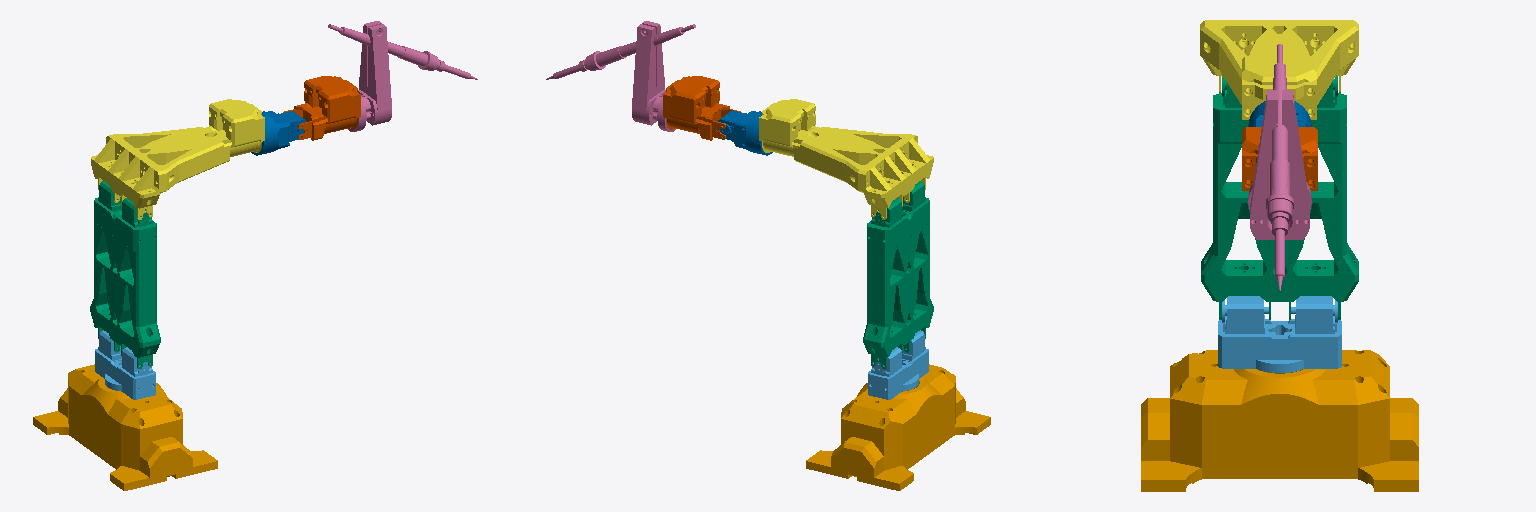
URDF robot description (mini_6dof_arm):
<?xml version="1.0"?>

<robot name="mini_6dof_arm">

  <!-- ###############################
       LINKS
       ############################### -->

  <link name="base">
    <visual>
      <origin xyz="0 0 0" rpy="0 0 0"/>
      <geometry>
        <mesh filename="stl-files/base.stl"/>
      </geometry>
    </visual>
    <collision>
      <origin xyz="0 0 0" rpy="0 0 0"/>
      <geometry>
        <mesh filename="stl-files/base.stl"/>
      </geometry>
    </collision>
    <inertial>
      <origin xyz="0 0 0" rpy="0 0 0"/>
      <mass value="0.191955"/>
      <inertia
        ixx="1.841e-4" ixy="3.5e-11" ixz="8.1195e-5"
        iyy="2.948e-4" iyz="-7.4e-11"
        izz="2.374e-4"/>
    </inertial>
  </link>

  <link name="L1">
    <visual>
      <origin xyz="0 0 0" rpy="0 0 0"/>
      <geometry>
        <mesh filename="stl-files/L1.stl"/>
      </geometry>
    </visual>
    <collision>
      <origin xyz="0 0 0" rpy="0 0 0"/>
      <geometry>
        <mesh filename="stl-files/L1.stl"/>
      </geometry>
    </collision>
    <inertial>
      <origin xyz="0 0 0" rpy="0 0 0"/>
      <mass value="0.103485"/>
      <inertia
        ixx="1.136e-4" ixy="-1.8e-11" ixz="1.6e-11"
        iyy="1.087e-4" iyz="1.3797e-6"
        izz="1.5099e-5"/>
    </inertial>
  </link>

  <link name="L2">
    <visual>
      <origin xyz="0 0 0" rpy="0 0 0"/>
      <geometry>
        <mesh filename="stl-files/L2.stl"/>
      </geometry>
    </visual>
    <collision>
      <origin xyz="0 0 0" rpy="0 0 0"/>
      <geometry>
        <mesh filename="stl-files/L2.stl"/>
      </geometry>
    </collision>
    <inertial>
      <origin xyz="0 0 0" rpy="0 0 0"/>
      <mass value="0.148586"/>
      <inertia
        ixx="1.87e-3" ixy="-1.852e-9" ixz="-5.8291e-7"
        iyy="1.853e-3" iyz="-5.4339e-6"
        izz="3.1532e-5"/>
    </inertial>
  </link>

  <link name="L3">
    <visual>
      <origin xyz="0 0 0" rpy="0 0 0"/>
      <geometry>
        <mesh filename="stl-files/L3.stl"/>
      </geometry>
    </visual>
    <collision>
      <origin xyz="0 0 0" rpy="0 0 0"/>
      <geometry>
        <mesh filename="stl-files/L3.stl"/>
      </geometry>
    </collision>
    <inertial>
      <origin xyz="0 0 0" rpy="0 0 0"/>
      <mass value="0.19883"/>
      <inertia
        ixx="5.208e-4" ixy="1.562e-4" ixz="-7.821e-4"
        iyy="2.074e-3" iyz="6.7509e-5"
        izz="1.679e-3"/>
    </inertial>
  </link>

  <link name="L4">
    <visual>
      <origin xyz="0 0 0" rpy="0 0 0"/>
      <geometry>
        <mesh filename="stl-files/L4.stl"/>
      </geometry>
    </visual>
    <collision>
      <origin xyz="0 0 0" rpy="0 0 0"/>
      <geometry>
        <mesh filename="stl-files/L4.stl"/>
      </geometry>
    </collision>
    <inertial>
      <origin xyz="0 0 0" rpy="0 0 0"/>
      <mass value="0.105559"/>
      <inertia
        ixx="1.5212e-5" ixy="1.5024e-6" ixz="-1.4847e-7"
        iyy="1.272e-4" iyz="1.924e-9"
        izz="1.322e-4"/>
    </inertial>
  </link>

  <link name="L5">
    <visual>
      <origin xyz="0 0 0" rpy="0 0 0"/>
      <geometry>
        <mesh filename="stl-files/L5.stl"/>
      </geometry>
    </visual>
    <collision>
      <origin xyz="0 0 0" rpy="0 0 0"/>
      <geometry>
        <mesh filename="stl-files/L5.stl"/>
      </geometry>
    </collision>
    <inertial>
      <origin xyz="0 0 0" rpy="0 0 0"/>
      <mass value="0.156359"/>
      <inertia
        ixx="6.9948e-5" ixy="1.022e-4" ixz="-3.9923e-5"
        iyy="6.747e-4" iyz="3.5287e-6"
        izz="7.044e-4"/>
    </inertial>
  </link>

  <link name="wrist">
      <visual>
        <origin xyz="0 0 0" rpy="0 0 0"/>
        <geometry>
          <mesh filename="stl-files/wrist.stl"/>
        </geometry>
      </visual>
      <collision>
        <origin xyz="0 0 0" rpy="0 0 0"/>
        <geometry>
          <mesh filename="stl-files/wrist.stl"/>
        </geometry>
      </collision>
      <inertial>
        <origin xyz="0 0 0" rpy="0 0 0"/>
        <mass value="0.018493"/>
        <inertia
          ixx="4.58648e-7" ixy="2.945e-15" ixz="2.201555e-6"
          iyy="4.6282102e-5" iyz="1.069e-14"
          izz="4.6049763e-5"/>
      </inertial>
    </link>

  
  
  <link name="tool_link"/>

  <!-- ###############################
       JOINTS
       ############################### -->

  <joint name="joint1" type="revolute">
    <parent link="base"/>
    <child  link="L1"/>
    <origin xyz="0 0 0.0843" rpy="0 0 0"/>
    <axis  xyz="0 0 1"/>
    <limit lower="-1.5708" upper="1.5708" effort="1.9123" velocity="5.4542"/>
  </joint>

  <joint name="joint2" type="revolute">
    <parent link="L1"/>
    <child  link="L2"/>
    <origin xyz="0 0 0.04315" rpy="0 0 0"/>
    <axis  xyz="0 1 0"/>
    <limit lower="-1.5708" upper="1.5708" effort="1.9123" velocity="5.4542"/>
  </joint>

  <joint name="joint3" type="revolute">
    <parent link="L2"/>
    <child  link="L3"/>
    <origin xyz="0 0 0.19715" rpy="0 0 0"/>
    <axis  xyz="0 1 0"/>
    <limit lower="-1.5708" upper="1.5708" effort="1.9123" velocity="5.4542"/>
  </joint>

  <joint name="joint4" type="revolute">
    <parent link="L3"/>
    <child  link="L4"/>
    <origin xyz="0.176556 0 0.0455" rpy="0 0 0"/>
    <axis  xyz="1 0 0"/>
    <limit lower="-3.1416" upper="3.1416" effort="1.9123" velocity="5.4542"/>
  </joint>

  <joint name="joint5" type="revolute">
    <parent link="L4"/>
    <child  link="L5"/>
    <origin xyz="0.05515 0 0" rpy="0 0 0"/>
    <axis  xyz="0 1 0"/>
    <limit lower="-1.8326" upper="2.0944" effort="1.9123" velocity="5.4542"/>
  </joint>

  <joint name="joint6" type="revolute">
    <parent link="L5"/>
    <child  link="wrist"/>
    <origin xyz="0.0773 0 0" rpy="0 0 0"/>
    <axis  xyz="1 0 0"/>
    <limit lower="-3.1416" upper="3.1416" effort="1.9123" velocity="5.4542"/>
  </joint>

  <joint name="fixed_tool" type="fixed">
    <parent link="wrist"/>
    <child  link="tool_link"/>
    <origin xyz="0.180 0 0" rpy="0 0 0"/>
  </joint>


</robot>

--- What the picture shows (computed from the rendered views, not written in the file) ---
Views: 3 orthographic renders of the robot side by side, from view 1: azimuth 30°, elevation 25°; view 2: azimuth 150°, elevation 25°; view 3: azimuth 270°, elevation 25°.
Model mini_6dof_arm with 8 links and 7 joints (6 revolute, 1 fixed), rooted at base, posed all joints at 0.
Visible links, largest first — view 1: base, L3, L2, wrist, L5, L1, L4; view 2: base, L3, L2, wrist, L5, L1, L4; view 3: base, L2, L3, L1, wrist, L5, L4.
Link boxes in pixels (bbox=[...]): base: bbox=[33, 364, 217, 490]; L3: bbox=[91, 99, 264, 219]; L2: bbox=[90, 181, 160, 368]; wrist: bbox=[328, 21, 477, 131]; L5: bbox=[283, 76, 360, 140]; L1: bbox=[95, 330, 155, 399]; L4: bbox=[251, 111, 306, 155]; base: bbox=[806, 364, 990, 490]; L3: bbox=[759, 99, 933, 219]; L2: bbox=[863, 181, 933, 368]; wrist: bbox=[546, 21, 695, 131]; L5: bbox=[663, 76, 741, 140]; L1: bbox=[868, 330, 928, 399]; L4: bbox=[717, 110, 772, 155]; base: bbox=[1141, 350, 1418, 491]; L2: bbox=[1201, 75, 1358, 319]; L3: bbox=[1200, 20, 1358, 119]; L1: bbox=[1218, 296, 1341, 372]; wrist: bbox=[1248, 44, 1311, 290]; L5: bbox=[1242, 127, 1317, 190]; L4: bbox=[1248, 101, 1311, 126].
Bounding box of the posed robot: 0.554 × 0.2192 × 0.4918 m (x, y, z).
Meshes: 7 distinct files referenced, 7 mesh visuals loaded (7 binary STL).